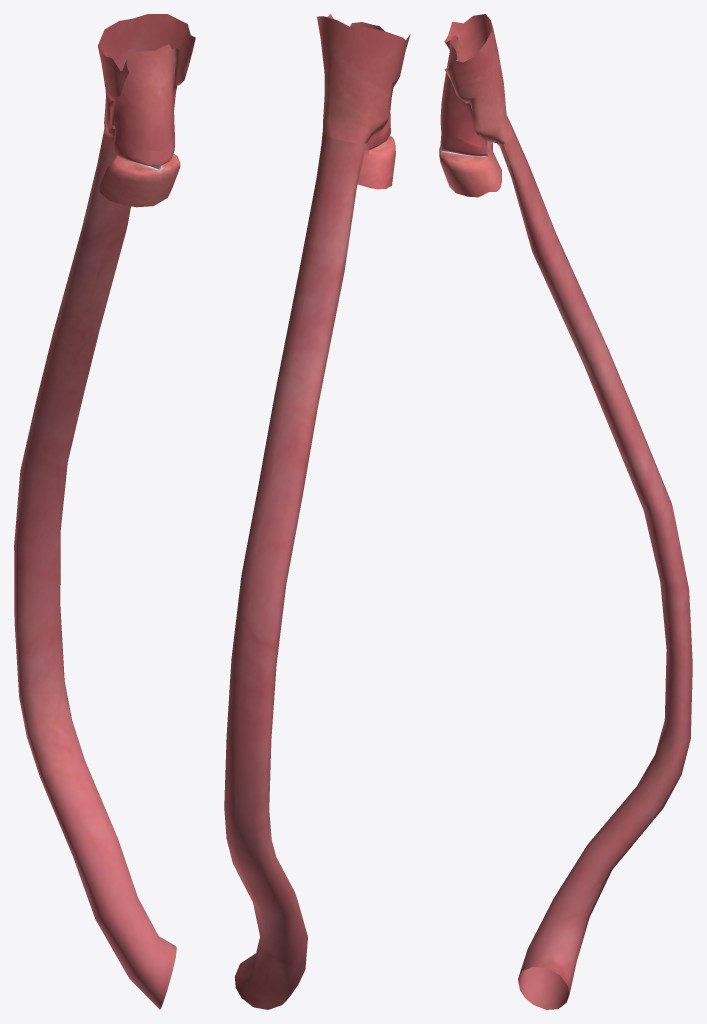
File: 1.2 oesophagus.glb
3 renders of one model, left to right at view 1: azimuth 30°, elevation 25°; view 2: azimuth 150°, elevation 25°; view 3: azimuth 270°, elevation 25°, orthographic. The views are drawn at different scales.
Visible parts, largest first — view 1: Esophagus, Larynx; view 2: Esophagus, Larynx; view 3: Esophagus, Larynx.
Part boxes in pixels (bbox=[...]): Esophagus: bbox=[14, 133, 176, 1009]; Larynx: bbox=[98, 14, 195, 207]; Esophagus: bbox=[224, 133, 366, 1009]; Larynx: bbox=[317, 14, 410, 189]; Esophagus: bbox=[500, 126, 692, 1009]; Larynx: bbox=[439, 14, 513, 197].
Bounding box in the file's own units: 0.0437 × 0.3408 × 0.0818.
2 materials, 2 textured.
